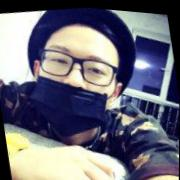WRONG: (27, 30, 126, 144)
